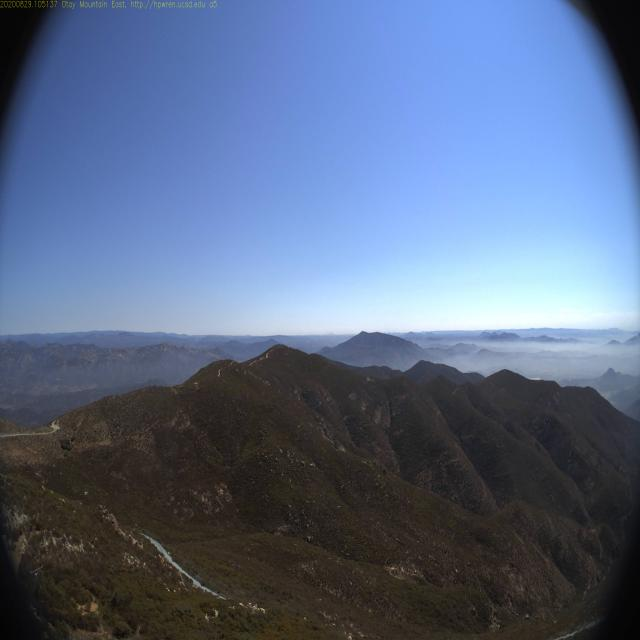smoke: (314, 318, 336, 346)
